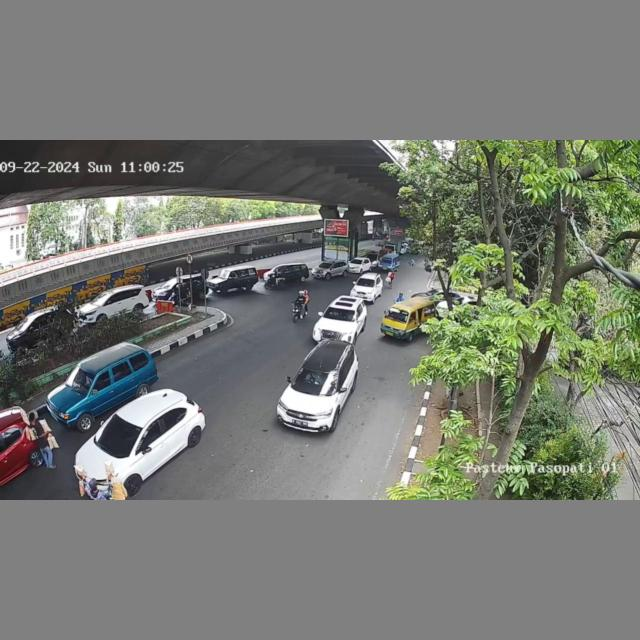windshield: (97, 418, 141, 449), (293, 367, 336, 393), (65, 367, 94, 389), (323, 306, 357, 319), (385, 308, 407, 322), (357, 279, 376, 288)
